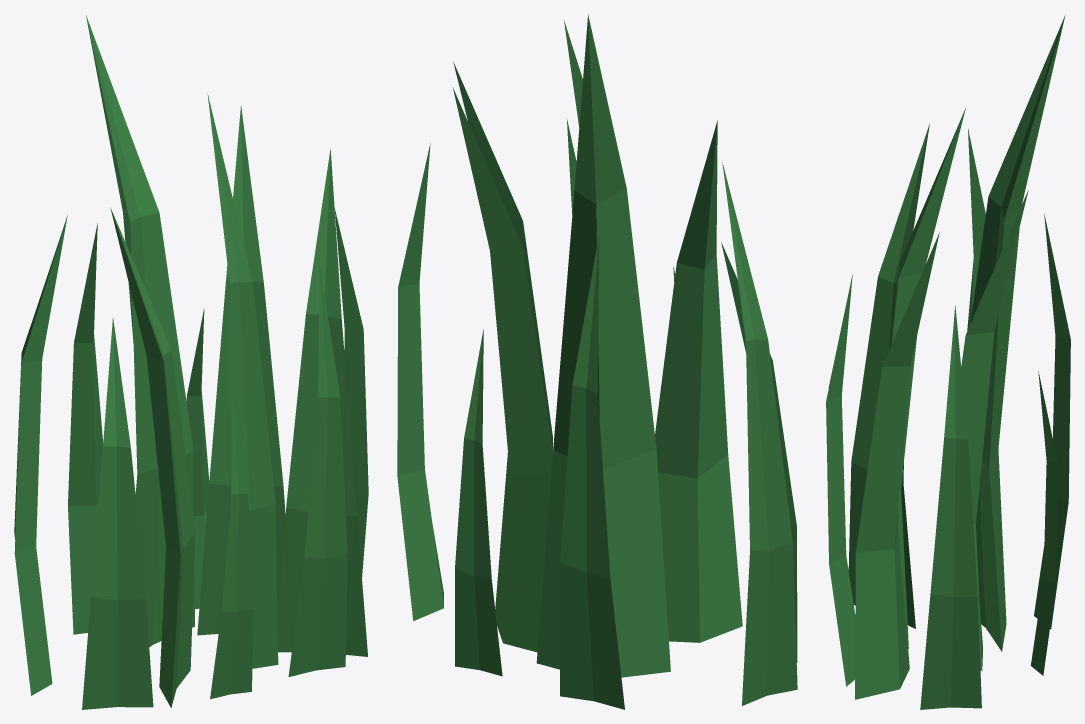
Rendered from Grass03.fbx.
The picture shows the model from 3 angles, left to right: view 1: azimuth 30°, elevation 25°; view 2: azimuth 150°, elevation 25°; view 3: azimuth 270°, elevation 25°; orthographic projection. The views are drawn at different scales.
Parts seen in each view (by area): view 1: Grass_03; view 2: Grass_03; view 3: Grass_03.
Boxes of the visible parts, x1,y1,x2,y2 form: Grass_03: [14, 15, 368, 709]; Grass_03: [397, 14, 797, 709]; Grass_03: [826, 15, 1070, 709].
Bounding box in the file's own units: 27.21 × 46.42 × 17.11.
